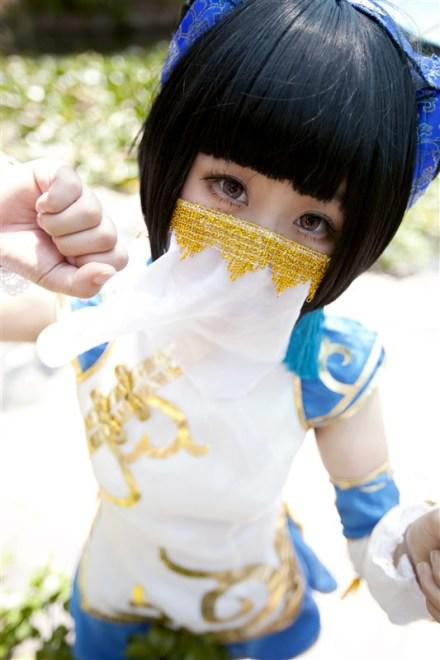OK: (164, 152, 350, 329)
